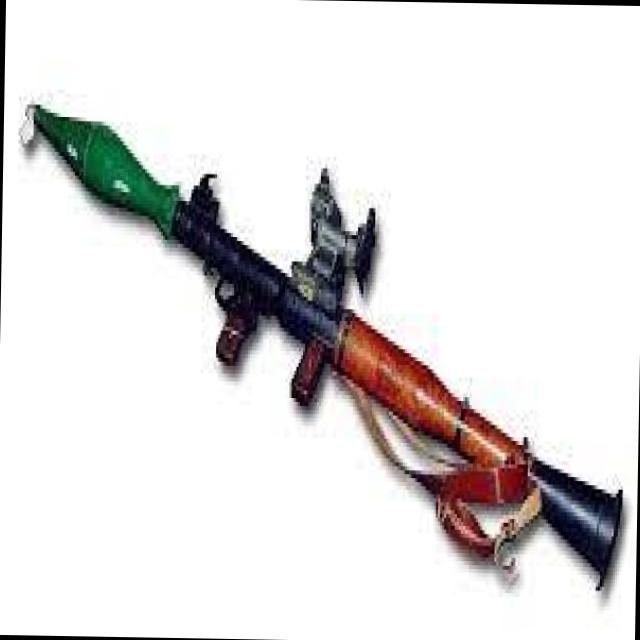Gun: (9, 78, 636, 591)
